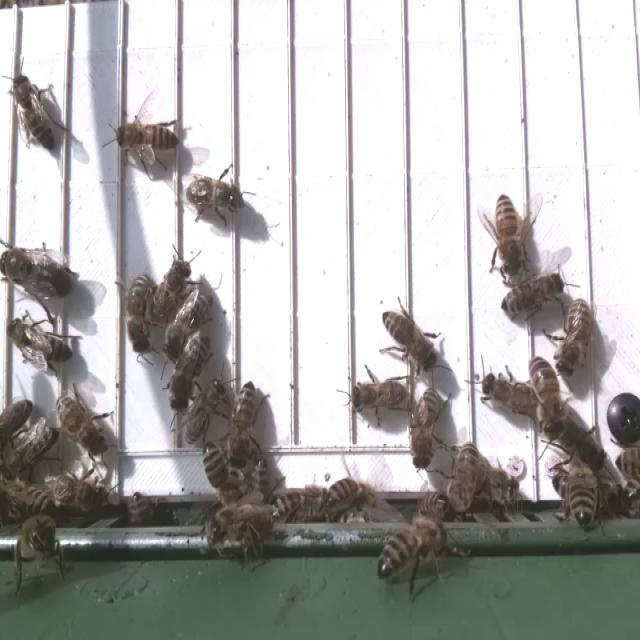Drone: (0, 244, 78, 305)
Worker: (11, 68, 60, 159), (378, 306, 441, 375), (527, 347, 569, 442), (166, 331, 211, 415), (162, 289, 215, 360), (54, 392, 108, 461), (8, 314, 77, 368), (179, 376, 226, 451), (499, 271, 563, 324), (557, 297, 596, 380), (407, 389, 445, 474), (493, 188, 527, 282), (184, 171, 247, 221), (478, 369, 534, 421), (230, 377, 261, 470), (349, 375, 409, 421), (114, 119, 181, 159), (199, 440, 232, 515), (126, 267, 152, 360)
